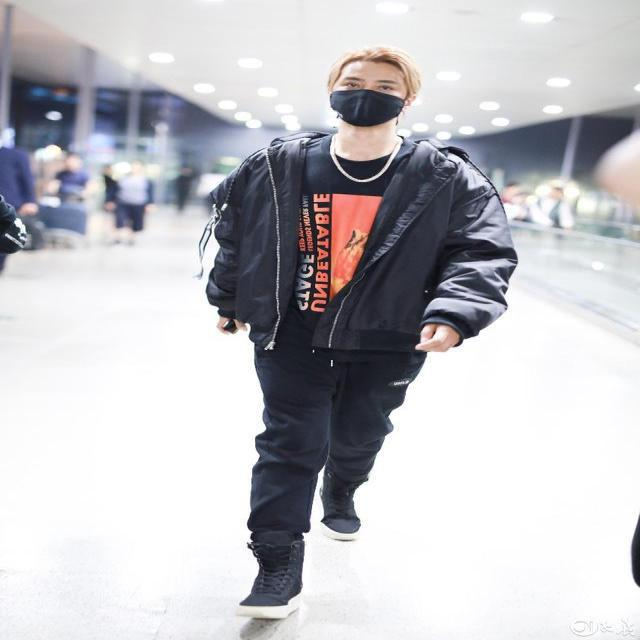face: (325, 66, 411, 132), (65, 157, 82, 171), (130, 163, 144, 172)
